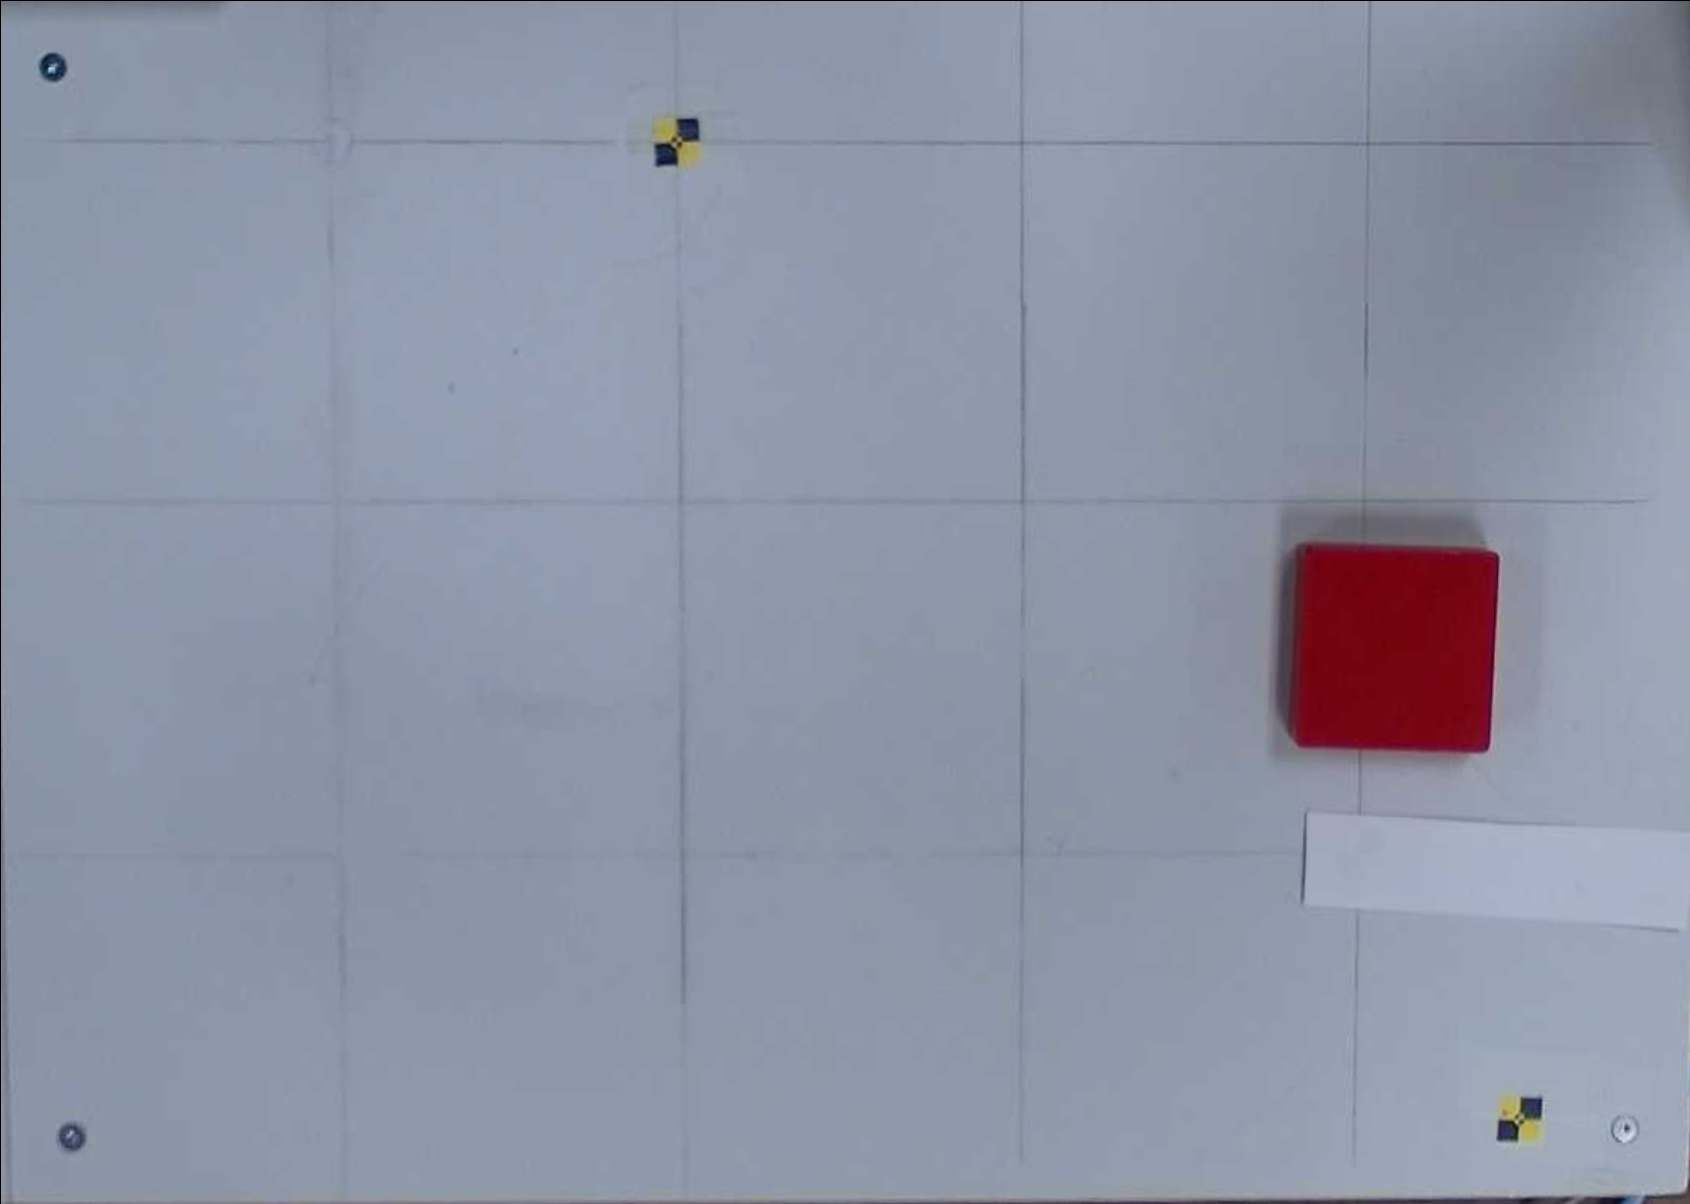Rectangle: (1289, 542, 1500, 752)
